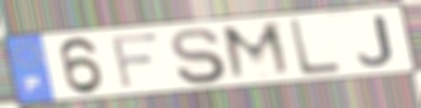6: (57, 36, 106, 96)
F: (109, 31, 163, 92)
J: (355, 14, 397, 68)
L: (286, 17, 343, 78)
M: (218, 19, 297, 83)
S: (167, 26, 229, 86)
